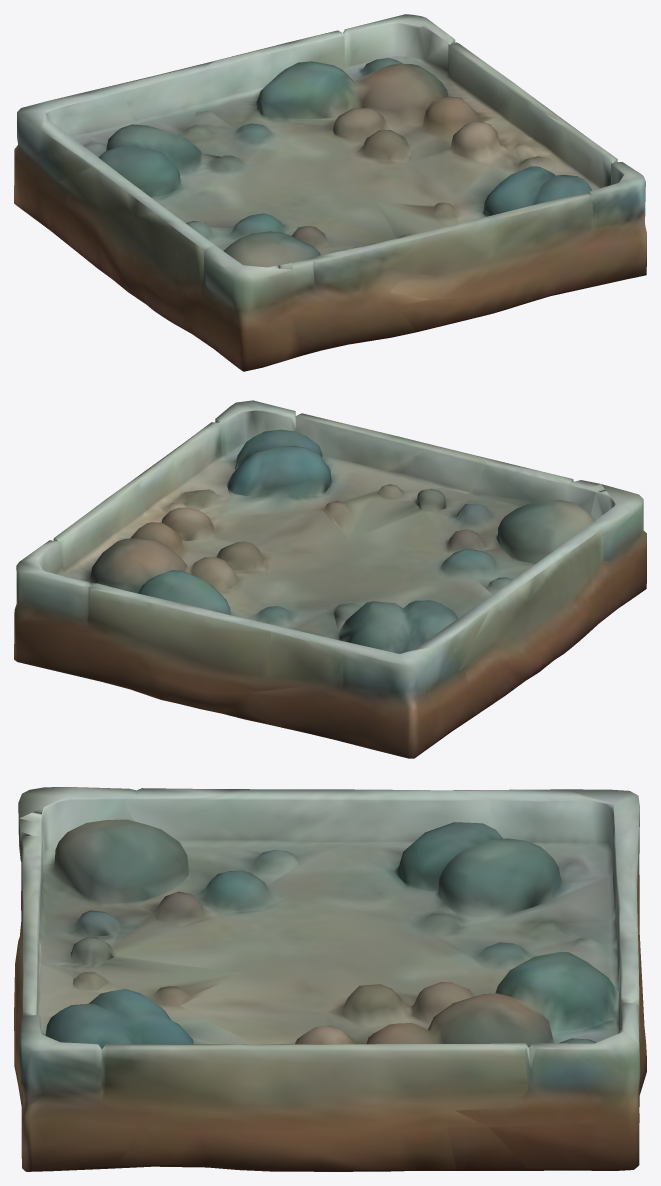
File: t04_agua_rasa_pedras.glb
3 views of the same model, one above another, from view 1: azimuth 30°, elevation 25°; view 2: azimuth 150°, elevation 25°; view 3: azimuth 270°, elevation 25° (orthographic). The views are drawn at different scales.
Visible parts, largest first — view 1: t04_agua_rasa_pedras; view 2: t04_agua_rasa_pedras; view 3: t04_agua_rasa_pedras.
Boxes of the visible parts, x1=… form: t04_agua_rasa_pedras: x1=14, y1=14, x2=646, y2=371; t04_agua_rasa_pedras: x1=14, y1=400, x2=646, y2=758; t04_agua_rasa_pedras: x1=14, y1=787, x2=646, y2=1171.
Size of the model in its own units: 0.9748 by 0.2136 by 0.9717.
1 material, 1 textured.
